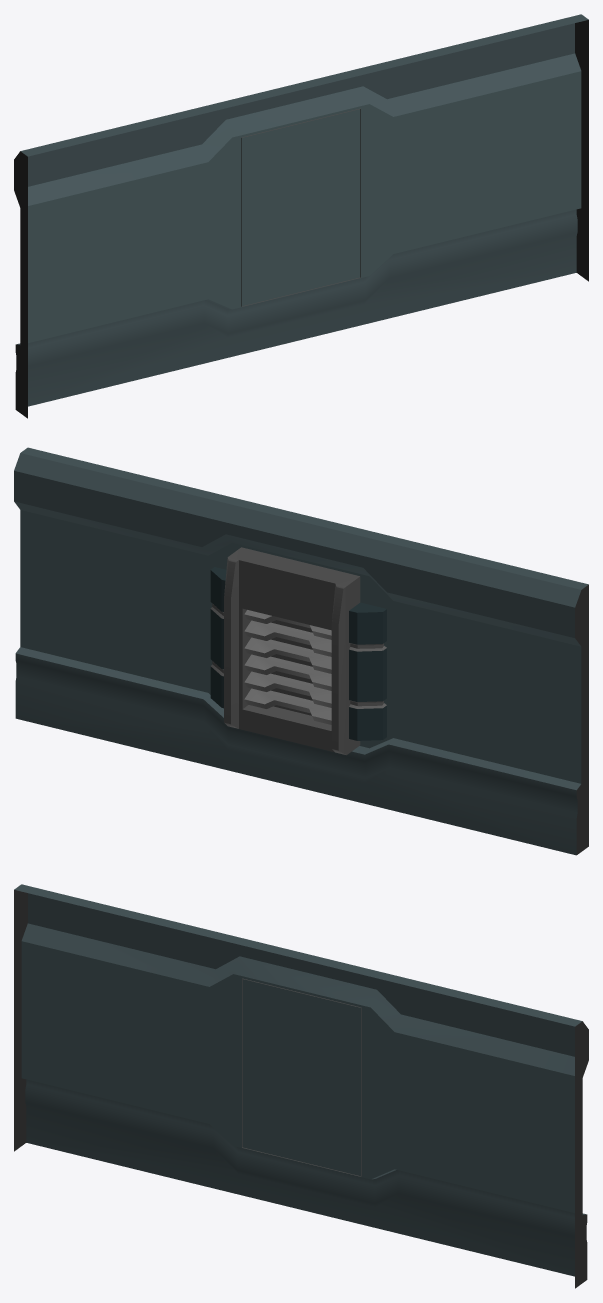
The model's file is SM_wall_front_air_vent.fbx.
The picture shows the model from 3 angles, top to bottom: view 1: azimuth 30°, elevation 25°; view 2: azimuth 150°, elevation 25°; view 3: azimuth 330°, elevation 25°; orthographic projection.
Parts seen in each view (by area): view 1: SM_wall_front_air_vent; view 2: SM_wall_front_air_vent; view 3: SM_wall_front_air_vent.
Part boxes in pixels (left/top/right/bottom): SM_wall_front_air_vent: left=14, top=14, right=588, bottom=418; SM_wall_front_air_vent: left=14, top=447, right=588, bottom=855; SM_wall_front_air_vent: left=14, top=884, right=588, bottom=1288.
Size of the model in its own units: 300 by 134 by 25.11.
1 material, 1 textured.
